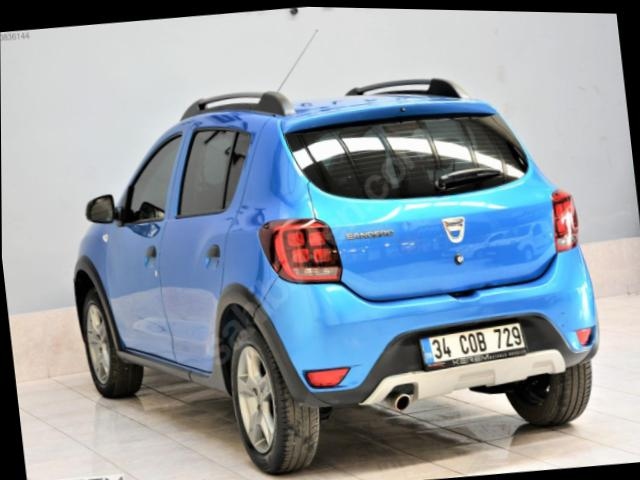plaka: (420, 323, 527, 369)
